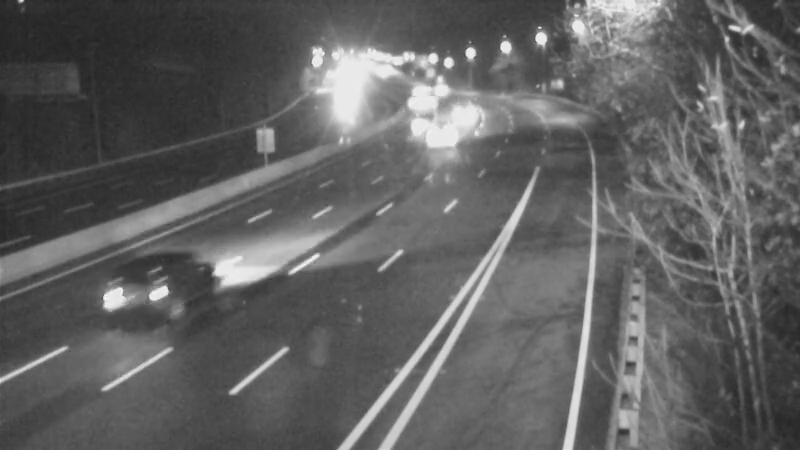vehicle: (93, 257, 173, 337), (444, 92, 494, 142), (396, 77, 446, 127), (415, 109, 465, 159)
